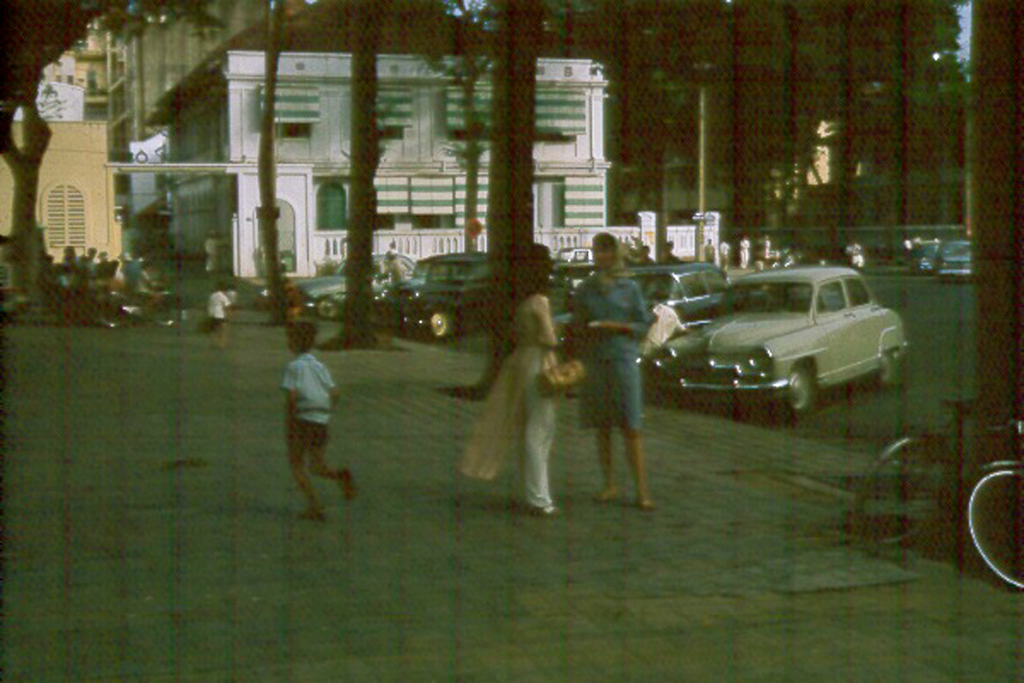cars: (641, 266, 904, 422), (364, 253, 498, 339), (284, 255, 422, 322), (642, 269, 734, 331), (935, 242, 978, 278), (906, 242, 940, 271)
